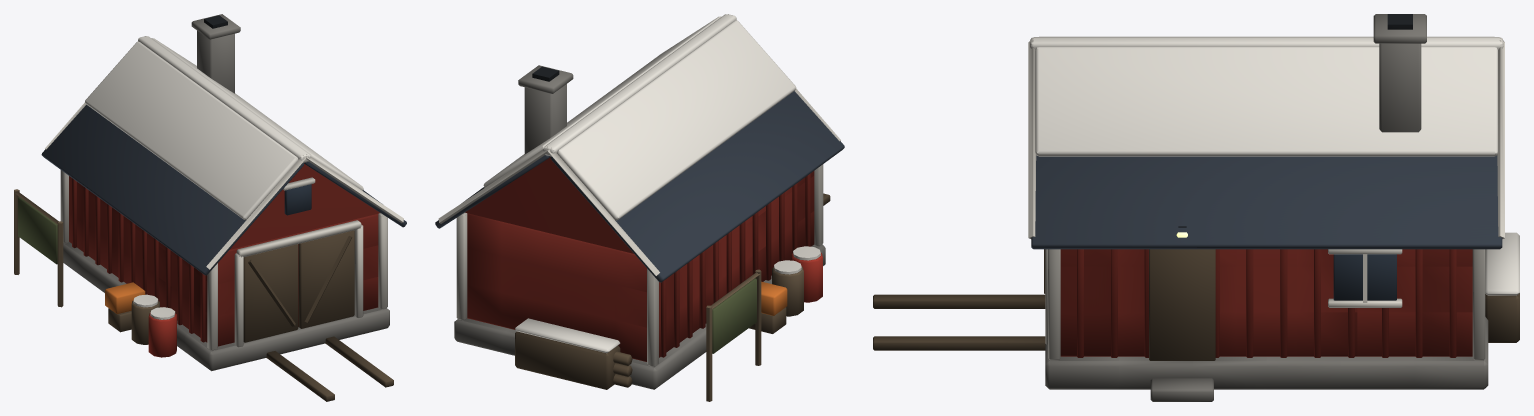
The model's file is fishing_hut.glb.
The picture shows the model from 3 angles, left to right: view 1: azimuth 30°, elevation 25°; view 2: azimuth 150°, elevation 25°; view 3: azimuth 270°, elevation 25°; orthographic projection. The views are drawn at different scales.
Parts seen in each view (by area): view 1: fishing_hut_snow, fishing_hut_red_timber, fishing_hut_slate, fishing_hut_wood, fishing_hut_stone, fishing_hut_white_paint, fishing_hut_olive, fishing_hut_signal_red, fishing_hut_signal_orange, fishing_hut_glass; view 2: fishing_hut_red_timber, fishing_hut_snow, fishing_hut_slate, fishing_hut_wood, fishing_hut_stone, fishing_hut_white_paint, fishing_hut_olive, fishing_hut_signal_red, fishing_hut_signal_orange; view 3: fishing_hut_snow, fishing_hut_slate, fishing_hut_red_timber, fishing_hut_stone, fishing_hut_wood, fishing_hut_white_paint, fishing_hut_glass.
Boxes of the visible parts, left/top/right/bottom form: fishing_hut_snow: left=85, top=36, right=363, bottom=319; fishing_hut_red_timber: left=69, top=164, right=379, bottom=346; fishing_hut_slate: left=41, top=104, right=406, bottom=275; fishing_hut_wood: left=14, top=189, right=393, bottom=401; fishing_hut_stone: left=63, top=14, right=389, bottom=371; fishing_hut_white_paint: left=45, top=36, right=403, bottom=350; fishing_hut_olive: left=18, top=197, right=57, bottom=264; fishing_hut_signal_red: left=148, top=313, right=176, bottom=357; fishing_hut_signal_orange: left=105, top=282, right=145, bottom=314; fishing_hut_glass: left=284, top=184, right=311, bottom=215; fishing_hut_red_timber: left=465, top=157, right=814, bottom=361; fishing_hut_snow: left=483, top=14, right=820, bottom=353; fishing_hut_slate: left=435, top=91, right=844, bottom=282; fishing_hut_wood: left=515, top=193, right=830, bottom=401; fishing_hut_stone: left=454, top=65, right=825, bottom=389; fishing_hut_white_paint: left=438, top=14, right=840, bottom=366; fishing_hut_olive: left=712, top=278, right=756, bottom=353; fishing_hut_signal_red: left=791, top=252, right=822, bottom=302; fishing_hut_signal_orange: left=761, top=281, right=787, bottom=315; fishing_hut_snow: left=1030, top=36, right=1519, bottom=295; fishing_hut_slate: left=1031, top=155, right=1502, bottom=249; fishing_hut_red_timber: left=1060, top=249, right=1472, bottom=357; fishing_hut_stone: left=1045, top=14, right=1488, bottom=401; fishing_hut_wood: left=873, top=249, right=1519, bottom=360; fishing_hut_white_paint: left=1028, top=38, right=1504, bottom=360; fishing_hut_glass: left=1333, top=254, right=1396, bottom=300.
Size of the model in its own units: 5.81 by 5.25 by 9.2.
